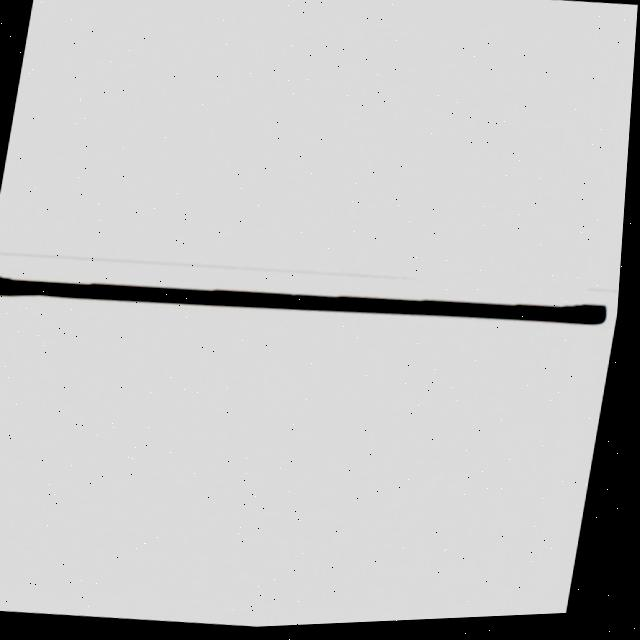crow bar: (0, 265, 618, 341)
